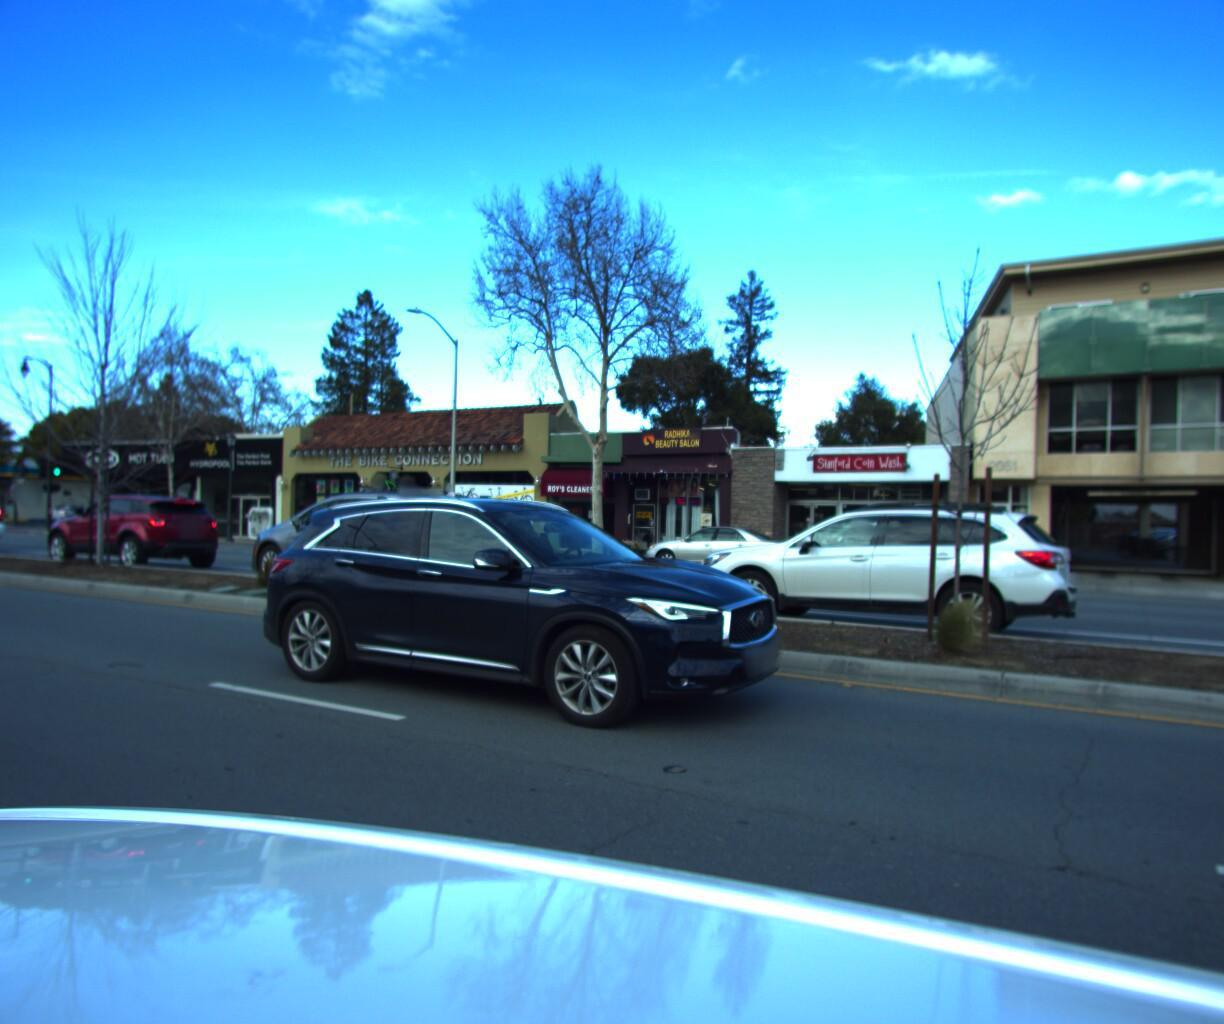car: (246, 486, 810, 748), (672, 494, 1086, 653), (218, 489, 517, 603), (24, 488, 230, 567), (309, 467, 474, 556), (629, 518, 801, 573), (47, 499, 111, 520)
